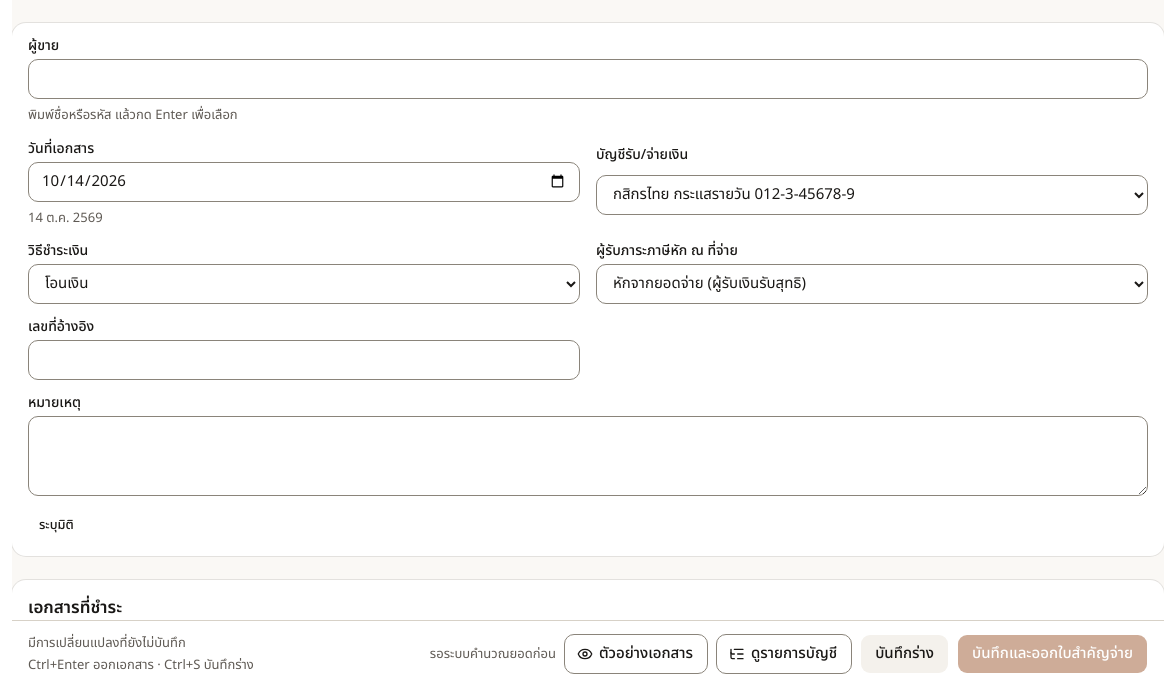
Scenario: PV editor: the standalone taxed line and the quick bill (D-16) › a vendor with no refusal still offers the quick-bill button next to the open items
The image size is (1176, 687).
Check: the button "บันทึกซื้อ (มีใบกำกับภาษี)" is not shown
Type "ภูพาน" into the dropdown labelled "ผู้ขาย".
click(588, 79); type("ภูพาน")  # box top-left (28, 59), bottom-right (1148, 99)
Then press Enter
(page scrolled)
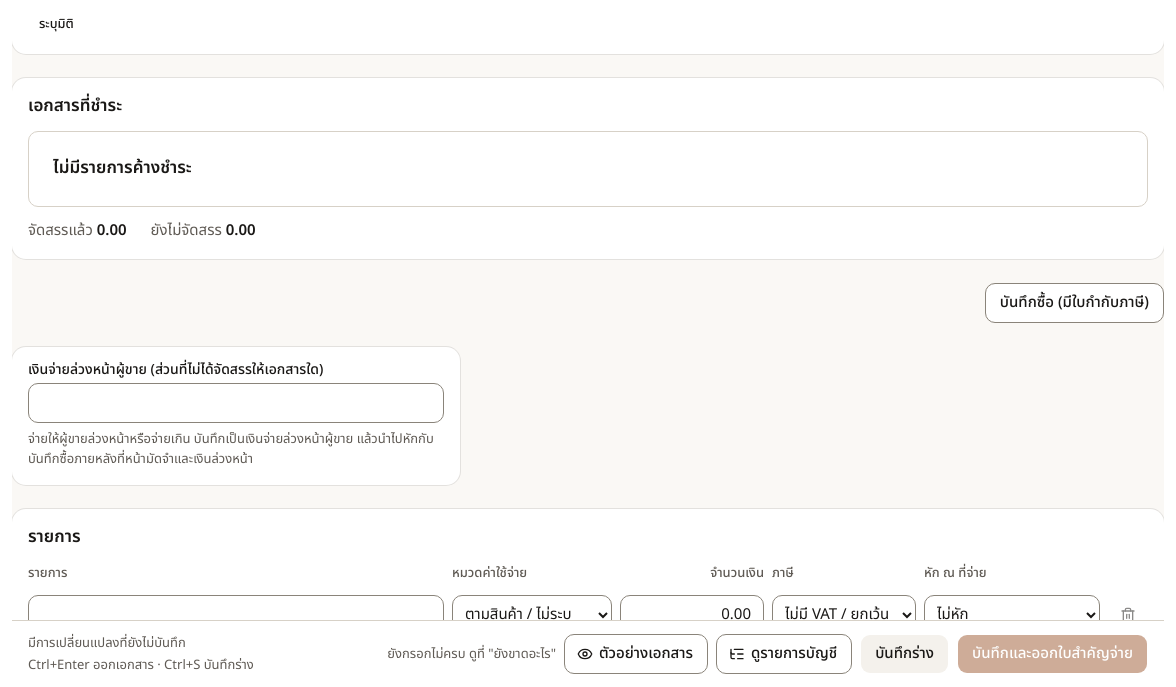
Check: the button "บันทึกซื้อ (มีใบกำกับภาษี)" is shown, box top-left (985, 283), bottom-right (1164, 323)
